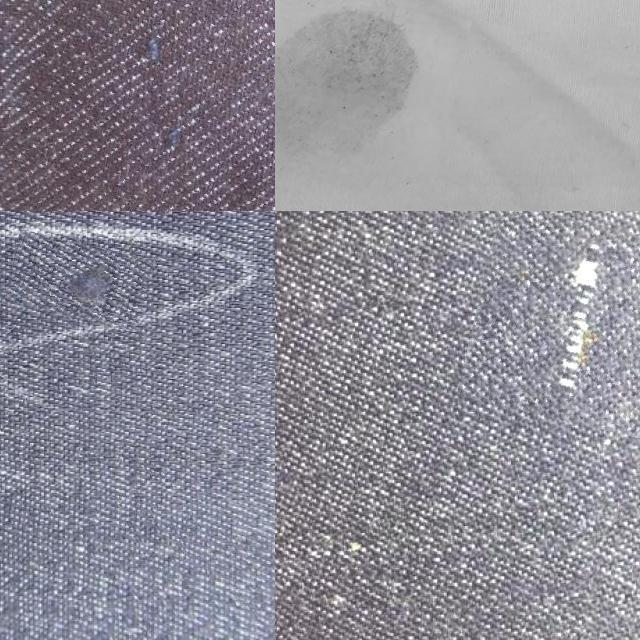Thread_other: (275, 0, 461, 209)
stains: (5, 0, 275, 211), (465, 211, 640, 429), (6, 236, 150, 325)
